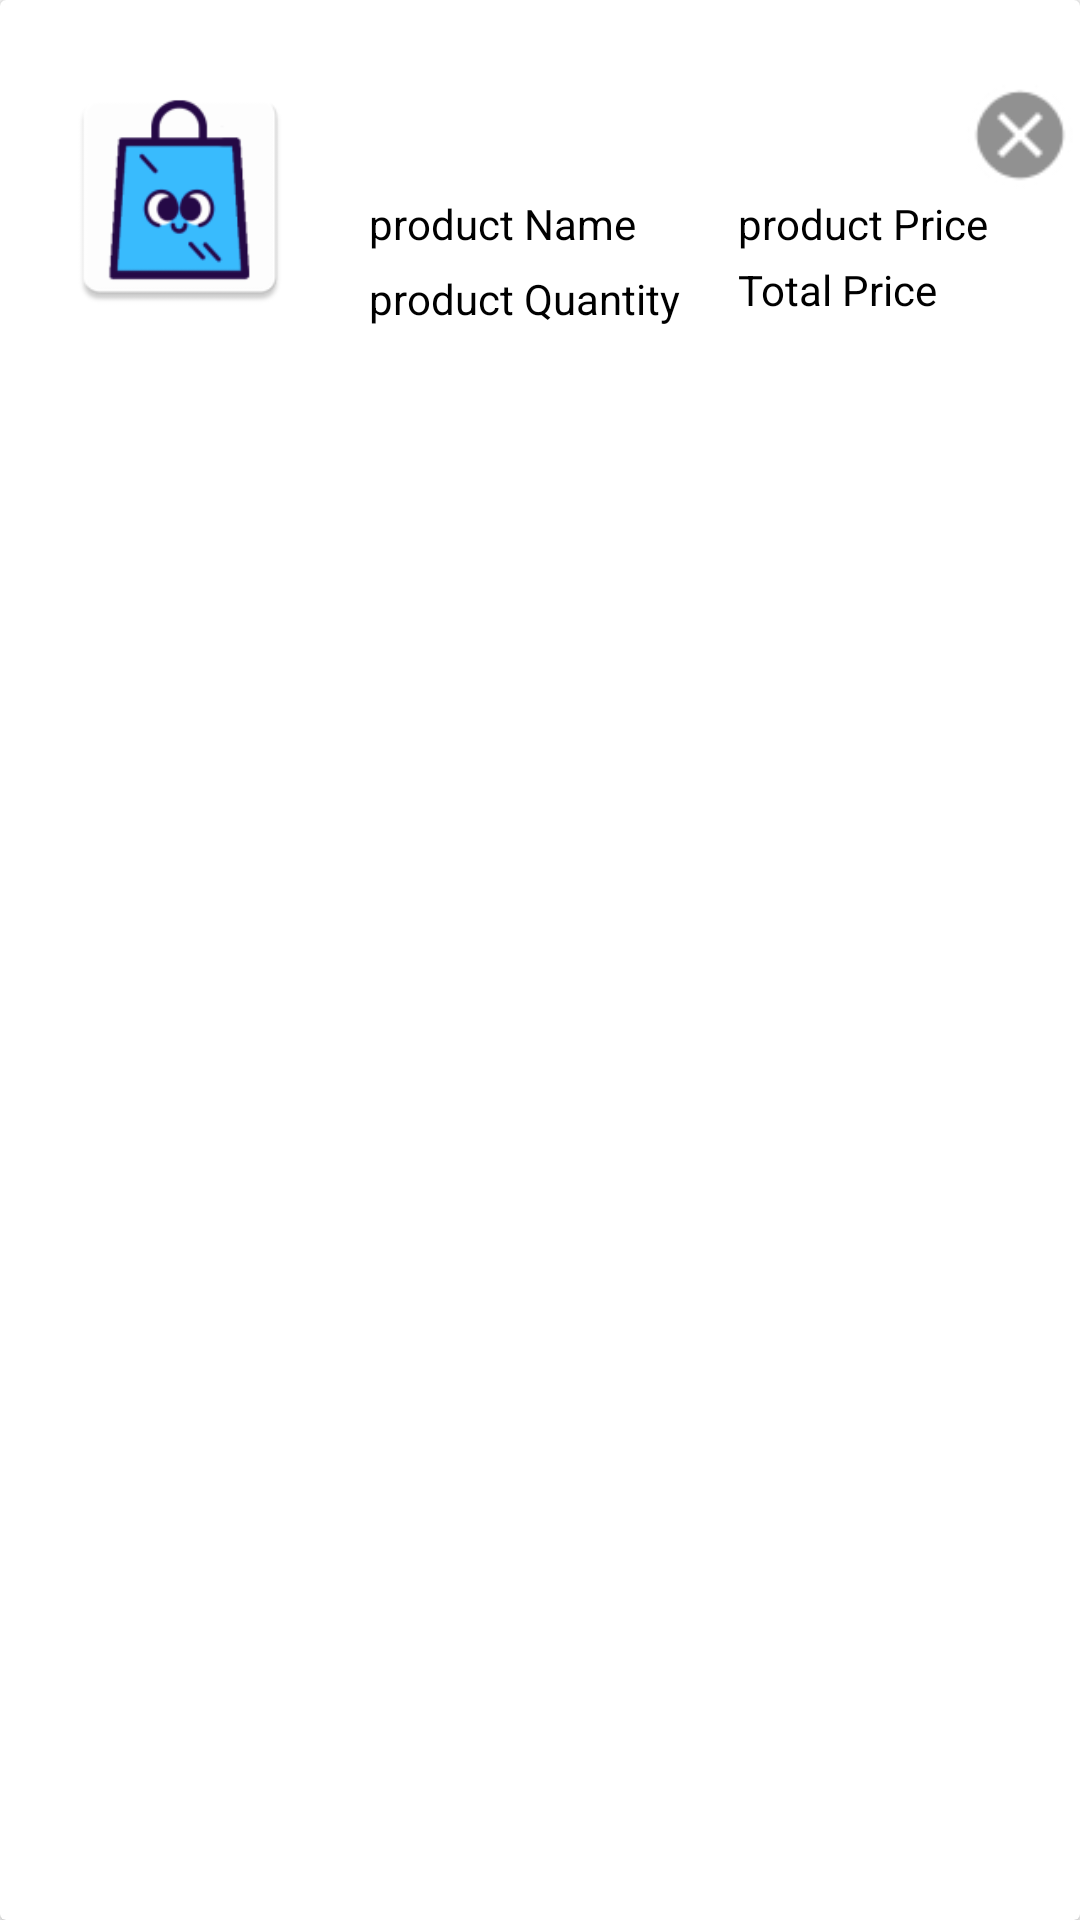

Where to tap for icons on this 1080*1920 app screen, as [x,y]:
presence offline: [1020,135]
